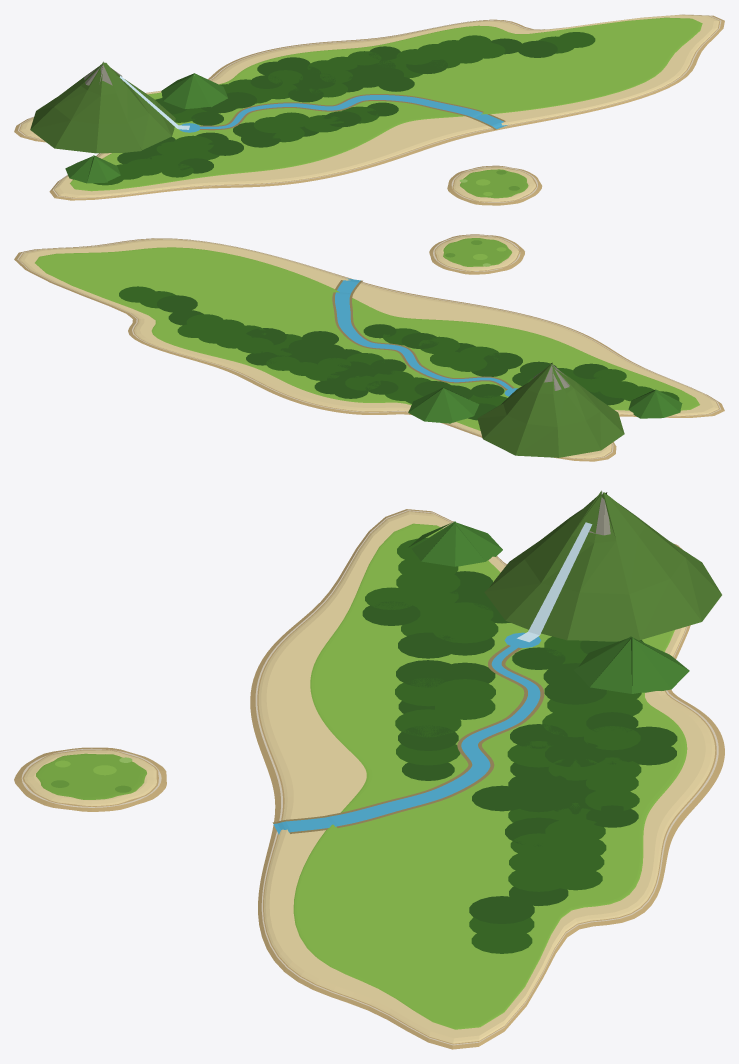
The model's file is aelumara_ground.glb.
The picture shows the model from 3 angles, top to bottom: view 1: azimuth 30°, elevation 25°; view 2: azimuth 150°, elevation 25°; view 3: azimuth 270°, elevation 25°; orthographic projection. The views are drawn at different scales.
Visible parts, largest first — view 1: HorizonIsland, TrioIsland; view 2: HorizonIsland, TrioIsland; view 3: HorizonIsland, TrioIsland.
Boxes of the visible parts, x1,y1,x2,y2 form: HorizonIsland: (14,14,724,200); TrioIsland: (447,165,542,205); HorizonIsland: (14,238,724,461); TrioIsland: (429,234,524,274); HorizonIsland: (250,490,724,1049); TrioIsland: (14,747,166,811).
Size of the model in its own units: 486 by 44.26 by 270.
